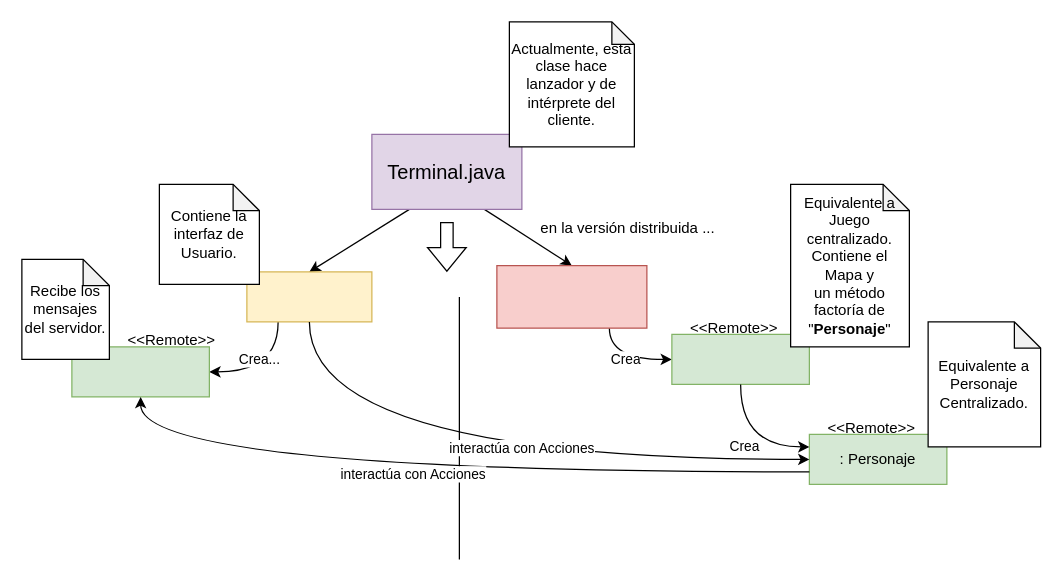
The diagram is 1063 pixels wide and 583 high, and some of its shapes have lost their labels. Each missing label, with the centre of its shape:
: Juego: the point at 740,358
callback: the point at 140,371
Cliente: the point at 309,296
Lanzador (Servidor): the point at 571,296
